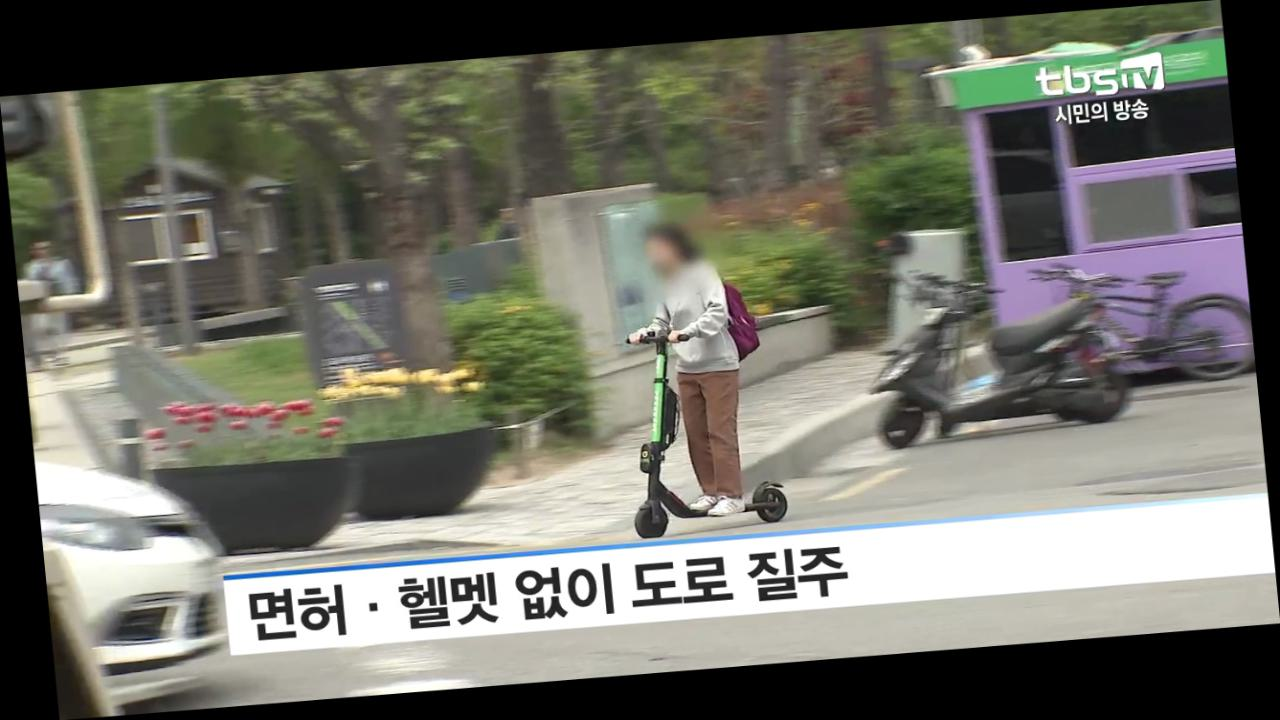nonhelmet: (600, 214, 799, 542)
